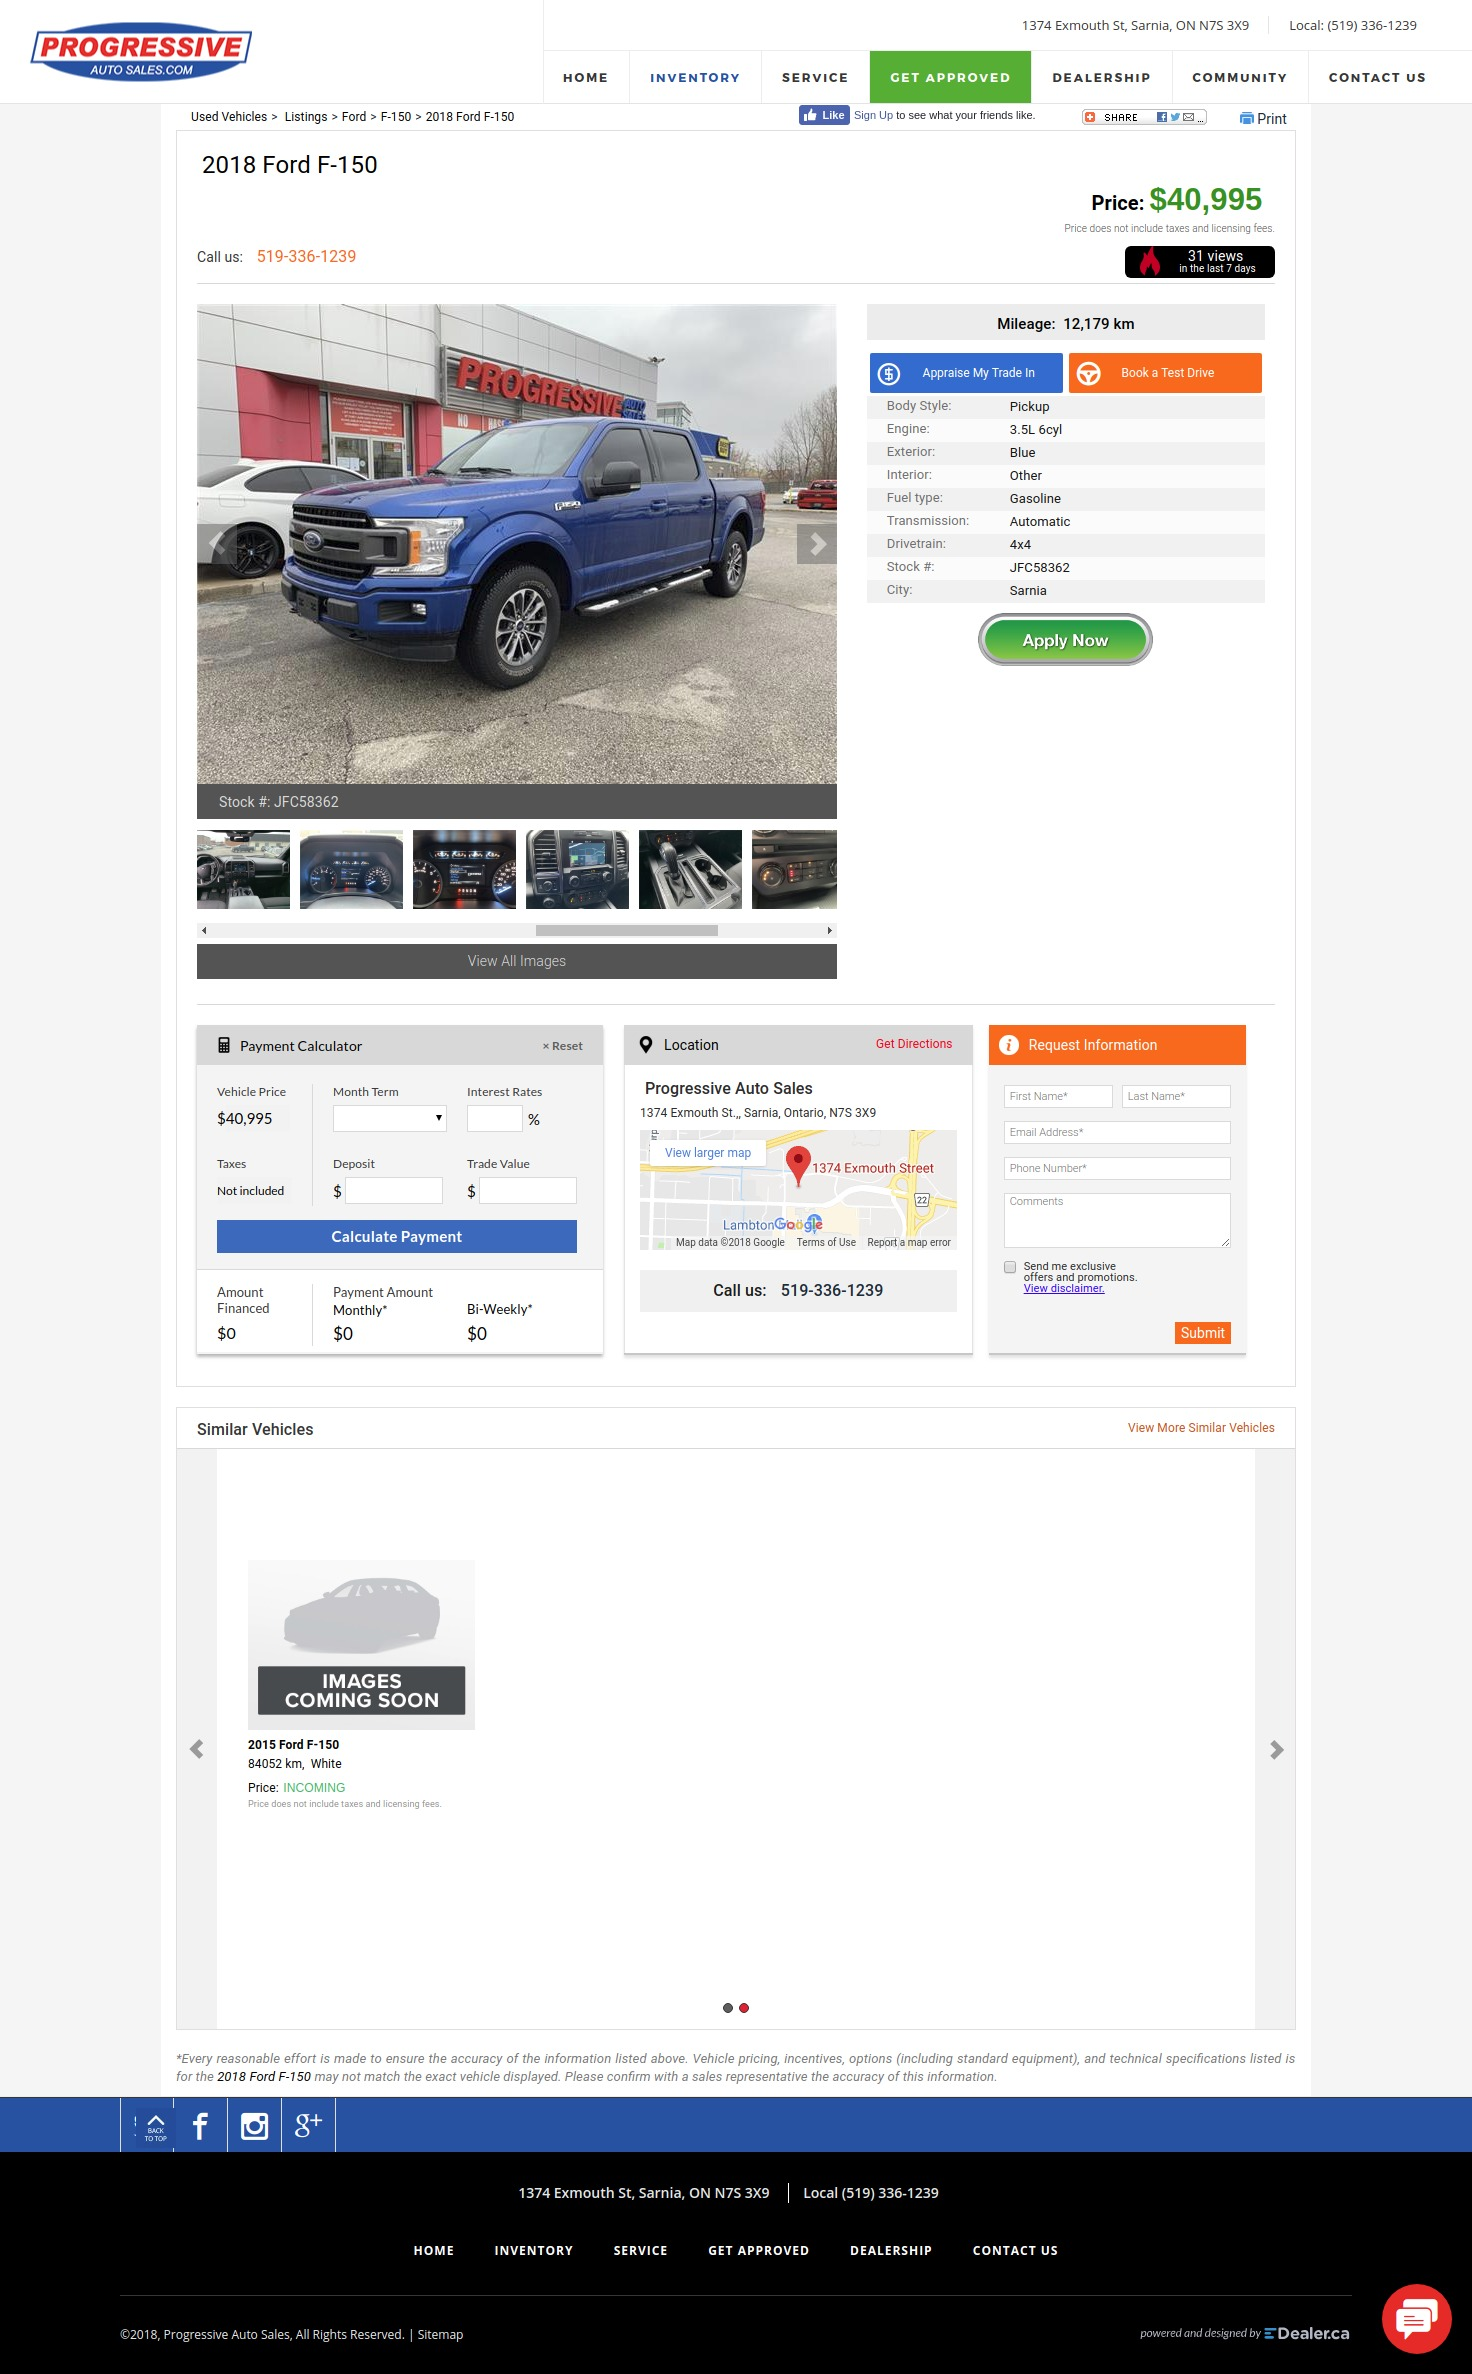car: (828, 928, 833, 934)
